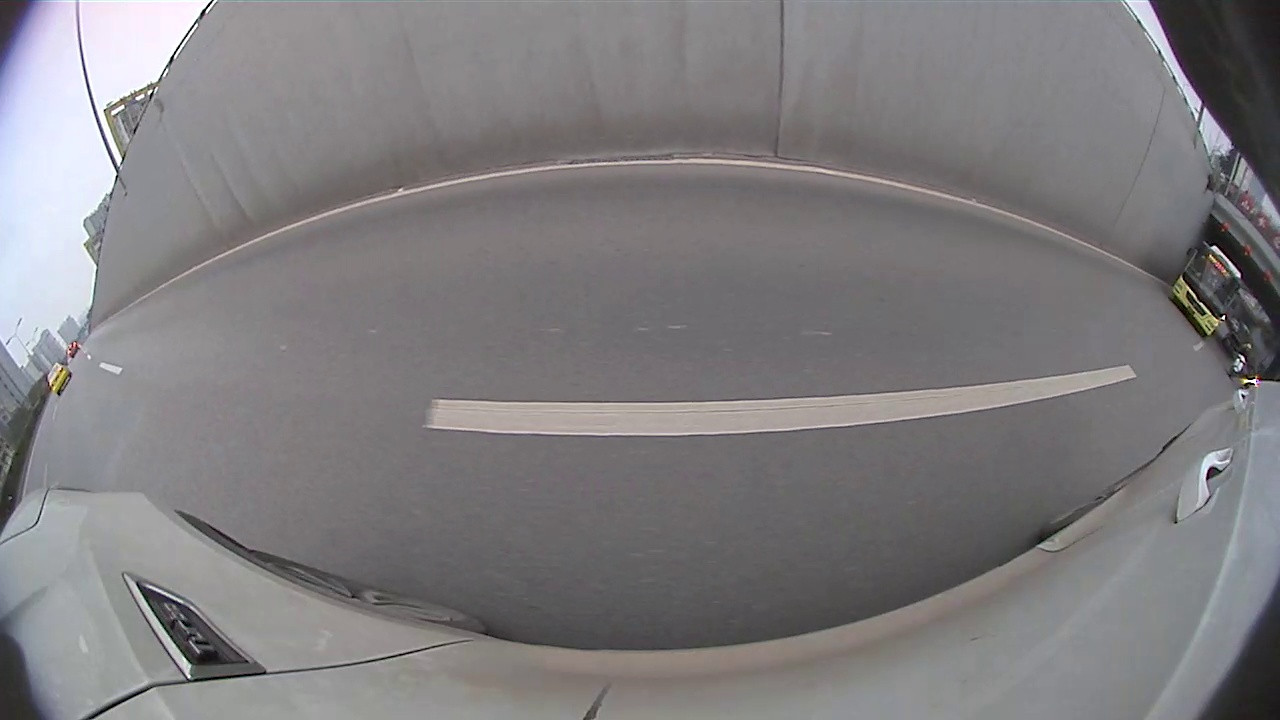bus: (899, 105, 1250, 350)
car: (0, 177, 408, 504), (801, 124, 1044, 275), (441, 134, 559, 222)
front: (345, 223, 398, 289), (803, 185, 825, 224)
rear: (48, 380, 156, 503), (887, 204, 936, 267), (1034, 224, 1086, 283)
truck: (544, 2, 786, 219)
